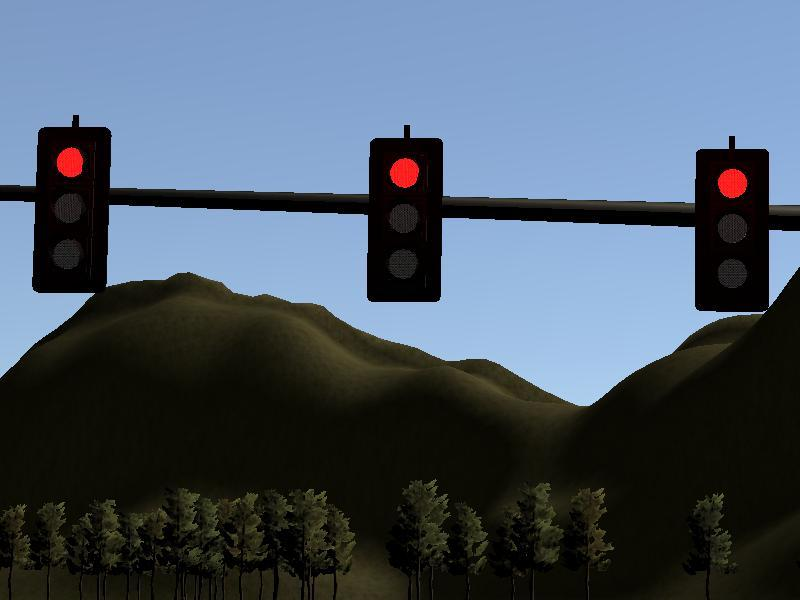Red: (697, 151, 768, 311), (371, 141, 442, 300), (38, 128, 105, 290)
